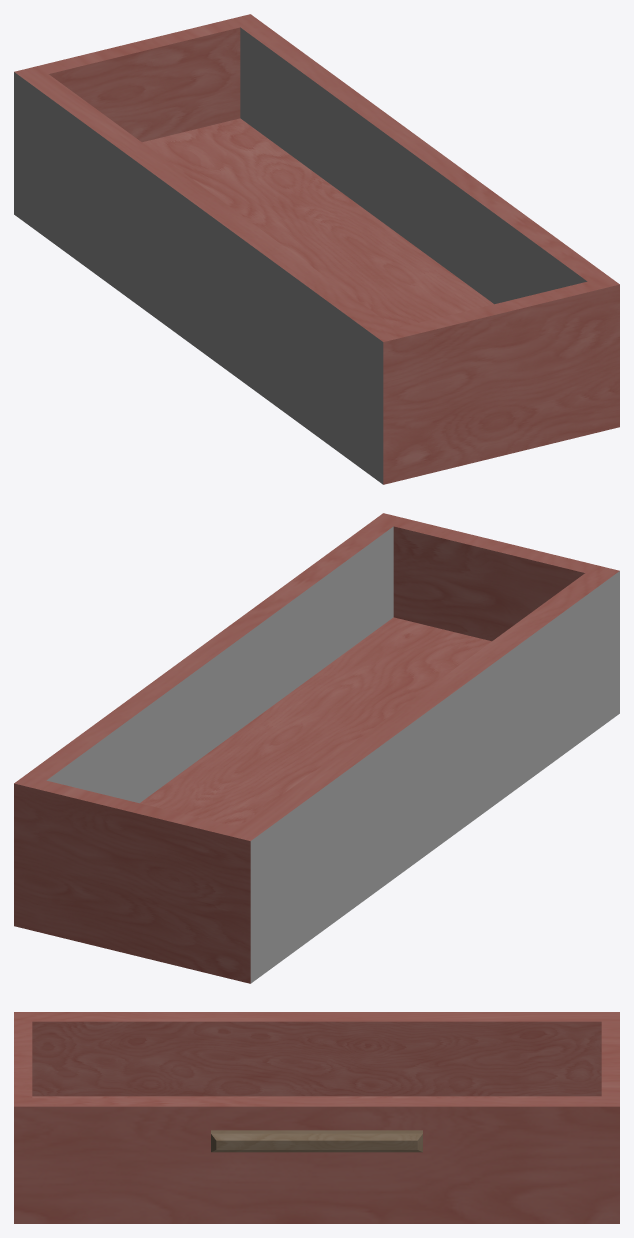
Rendered from Drawer_Opening.fbx.
3 renders of one model, top to bottom at view 1: azimuth 30°, elevation 25°; view 2: azimuth 150°, elevation 25°; view 3: azimuth 270°, elevation 25°, orthographic. The views are drawn at different scales.
Visible parts, largest first — view 1: pasted__draw1; view 2: pasted__draw1; view 3: pasted__draw1.
Part boxes in pixels (x1,y1,x2,y2): pasted__draw1: (14,14,619,484); pasted__draw1: (14,513,619,983); pasted__draw1: (14,1012,619,1223).
Bounding box in the file's own units: 0.8878 × 0.4828 × 2.27.
4 materials, 3 textured.
